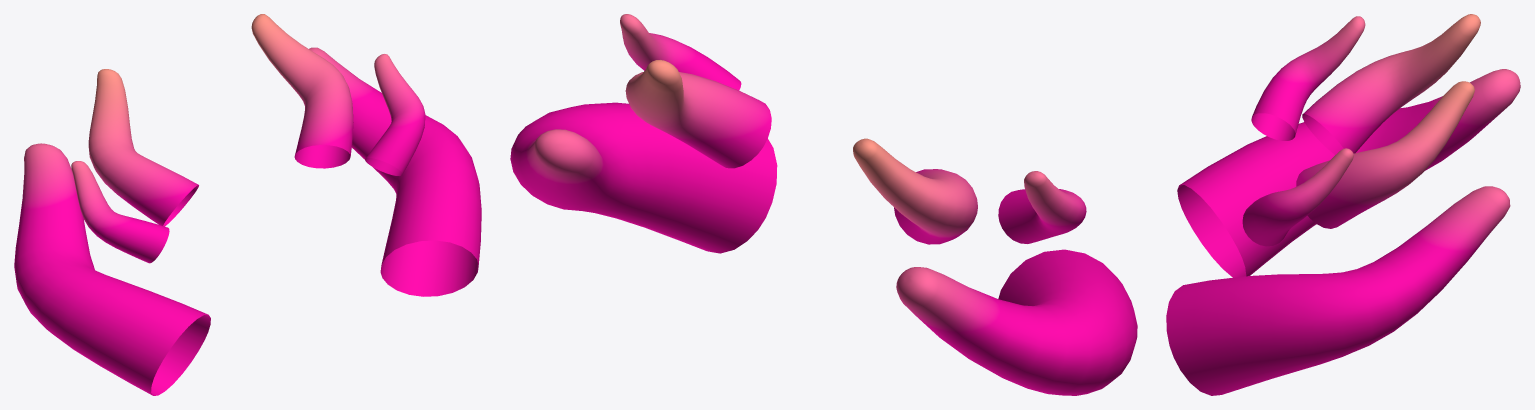
The model's file is Branquias_3.glb.
3 renders of one model, left to right at view 1: azimuth 30°, elevation 25°; view 2: azimuth 150°, elevation 25°; view 3: azimuth 270°, elevation 25°, orthographic. The views are drawn at different scales.
Visible parts, largest first — view 1: AXO BRANQUIAS ORIGINALS; view 2: AXO BRANQUIAS ORIGINALS; view 3: AXO BRANQUIAS ORIGINALS.
Part boxes in pixels (x1=…): AXO BRANQUIAS ORIGINALS: x1=14, y1=14, x2=481, y2=395; AXO BRANQUIAS ORIGINALS: x1=510, y1=14, x2=1137, y2=395; AXO BRANQUIAS ORIGINALS: x1=1166, y1=14, x2=1520, y2=395.
Bounding box in the file's own units: 1.99 × 1.14 × 1.19.
Materials: 1 (1 with a texture image).
